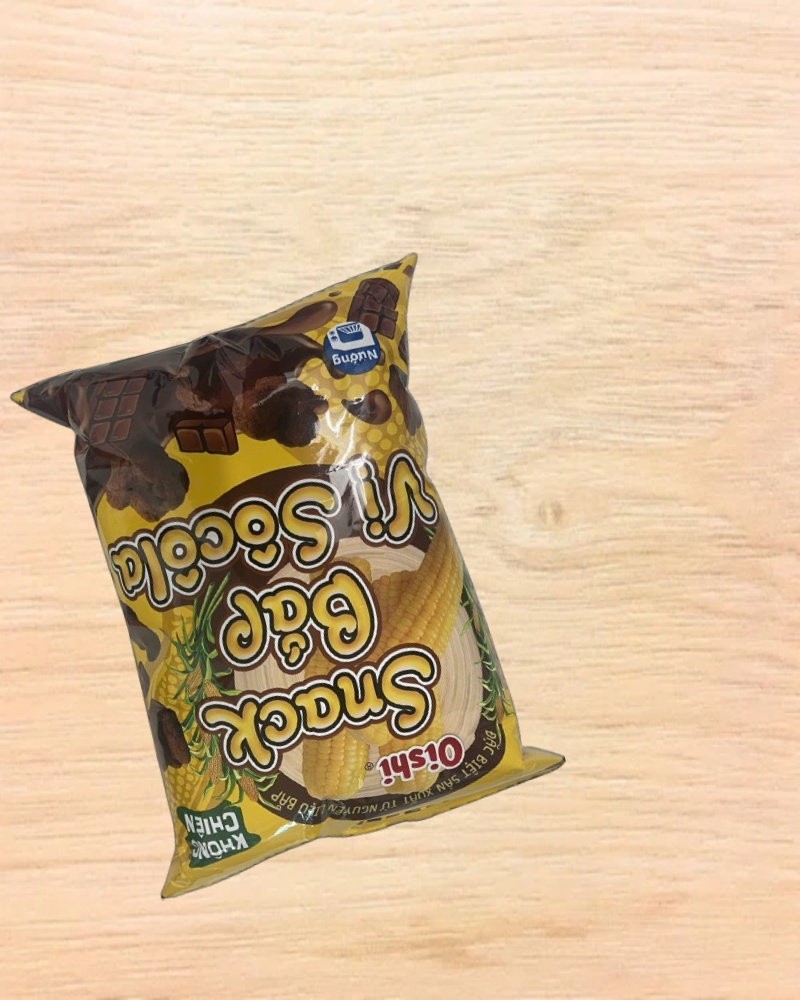Snack socola: (4, 252, 573, 903)
